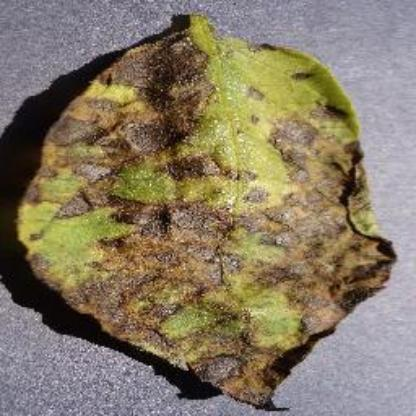Early-Blight: (13, 14, 395, 406)
